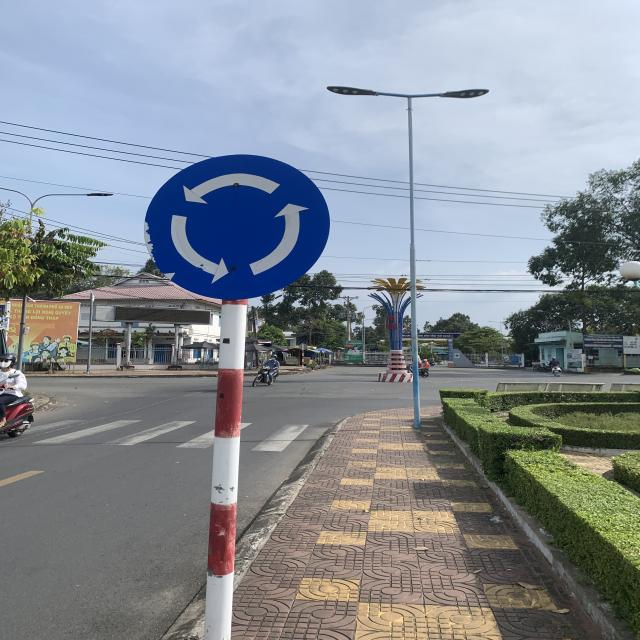Xe_Bus: (146, 153, 330, 300)
